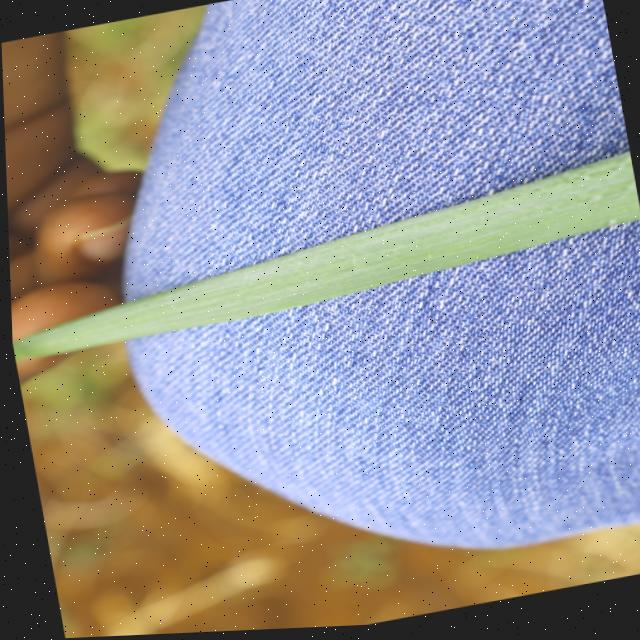healthy_wheat: (5, 152, 640, 370)
